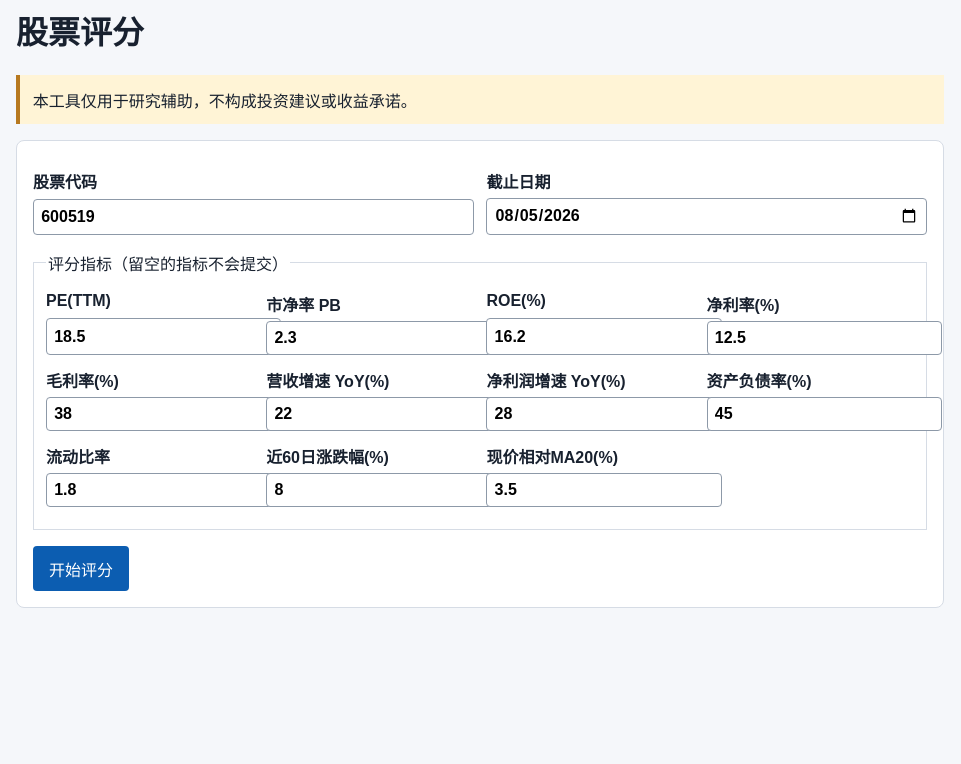
Test: scoring page › shows a safe API error and Retry recovers on the next response
Click the button "开始评分" at (81, 569), box [33,546,129,591]
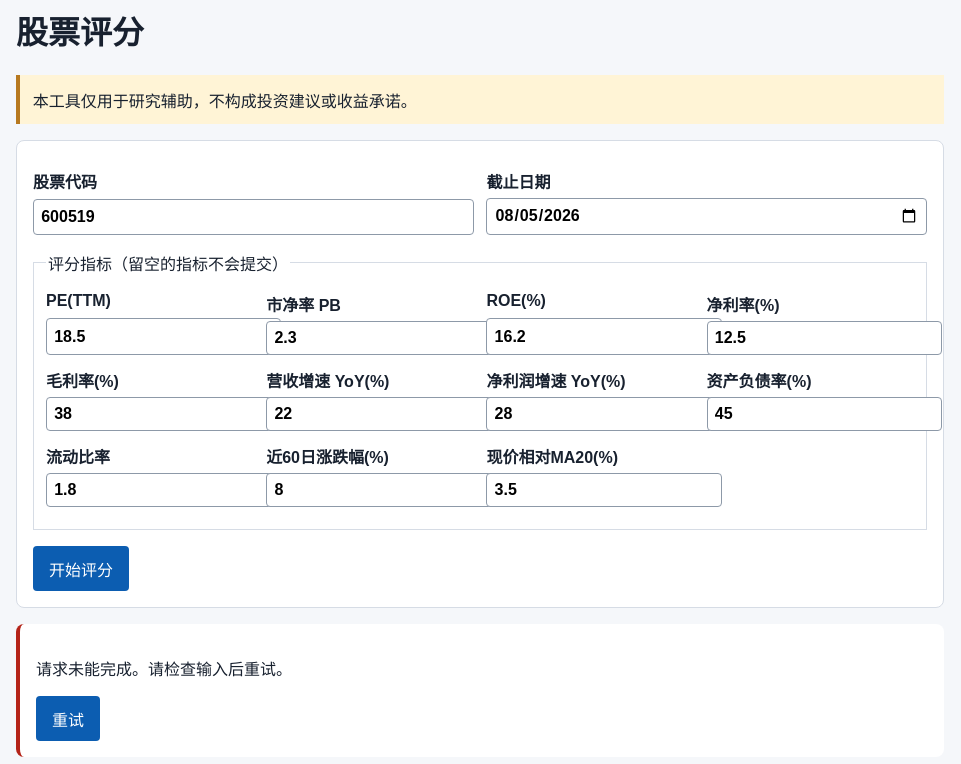
Now the message shows "请求未能完成。请检查输入后重试。", box [36,661,292,678]
Click the button "重试" at (68, 718), box [36,696,100,741]
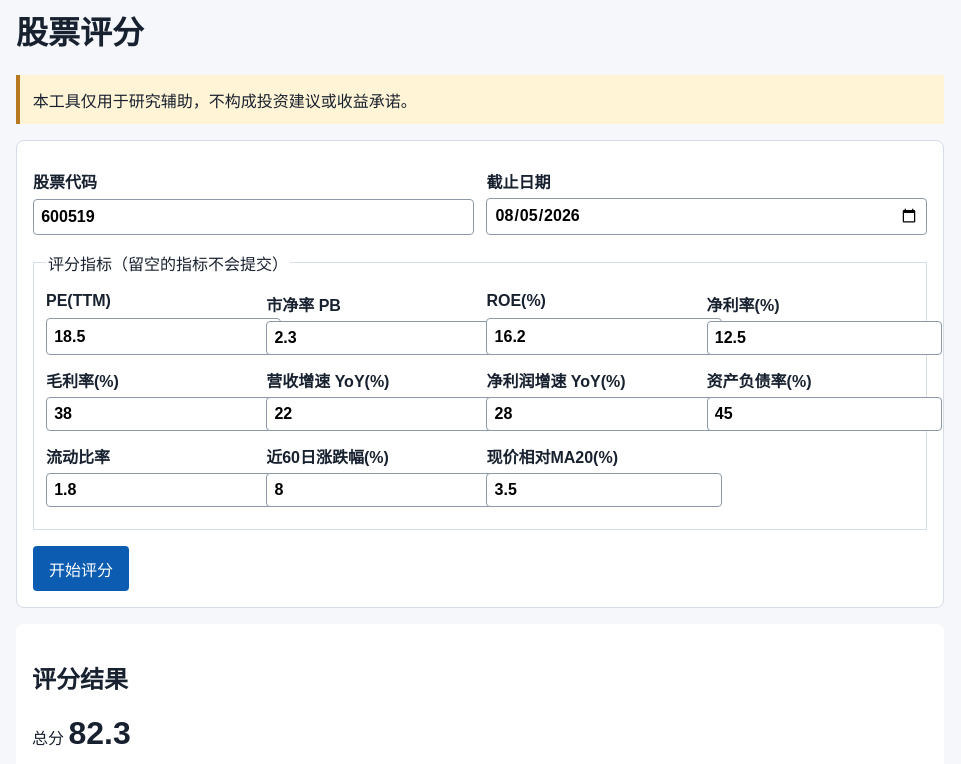
Now the text "82.3" is shown, box [68,715,131,751]
